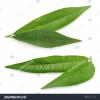Peach leaf: (10, 4, 92, 33), (40, 59, 98, 90), (3, 53, 84, 74), (11, 29, 86, 49)
